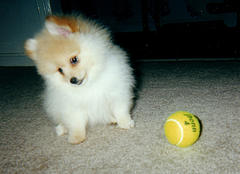tennis ball: (160, 108, 206, 149)
